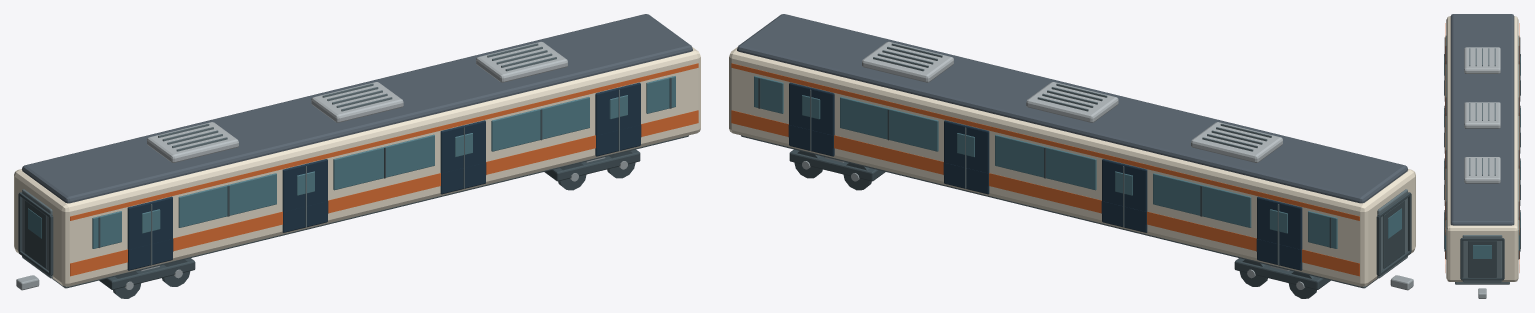
The model's file is original-middle.glb.
3 renders of one model, left to right at view 1: azimuth 30°, elevation 25°; view 2: azimuth 150°, elevation 25°; view 3: azimuth 270°, elevation 25°, orthographic. The views are drawn at different scales.
Visible parts, largest first — view 1: body, bogieFront, bogieBack; view 2: body, bogieFront, bogieBack; view 3: body.
Part boxes in pixels (<box>): body: <box>14,14,700,290</box>; bogieFront: <box>544,149,640,190</box>; bogieBack: <box>99,258,195,298</box>; body: <box>729,14,1415,290</box>; bogieFront: <box>789,149,885,190</box>; bogieBack: <box>1234,258,1330,298</box>; body: <box>1444,14,1520,298</box>.
Bounding box in the file's own units: 21 × 3.82 × 3.02.
